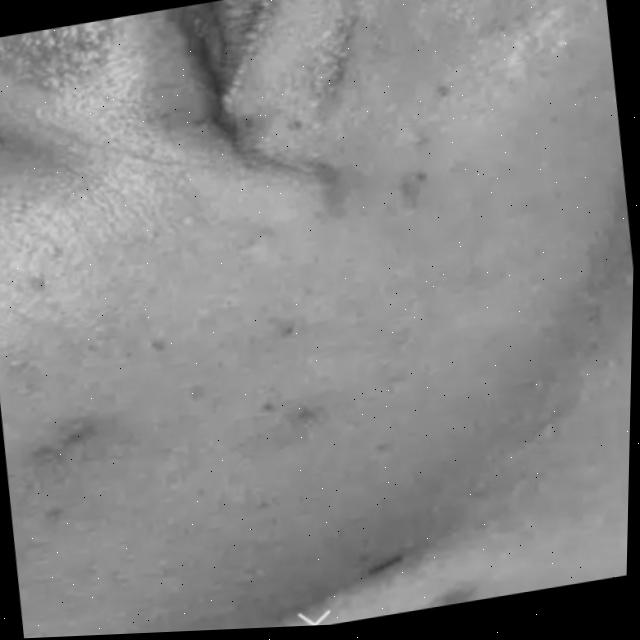Eczema: (11, 391, 98, 496), (1, 19, 112, 80)
